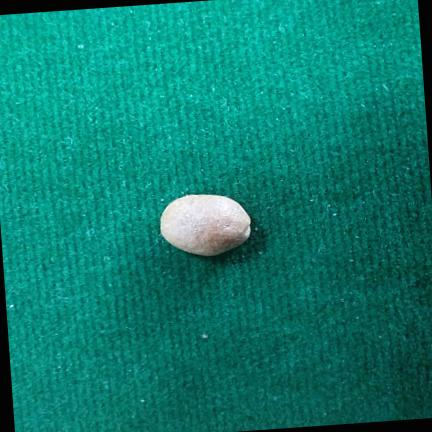immature: (161, 194, 250, 255)
